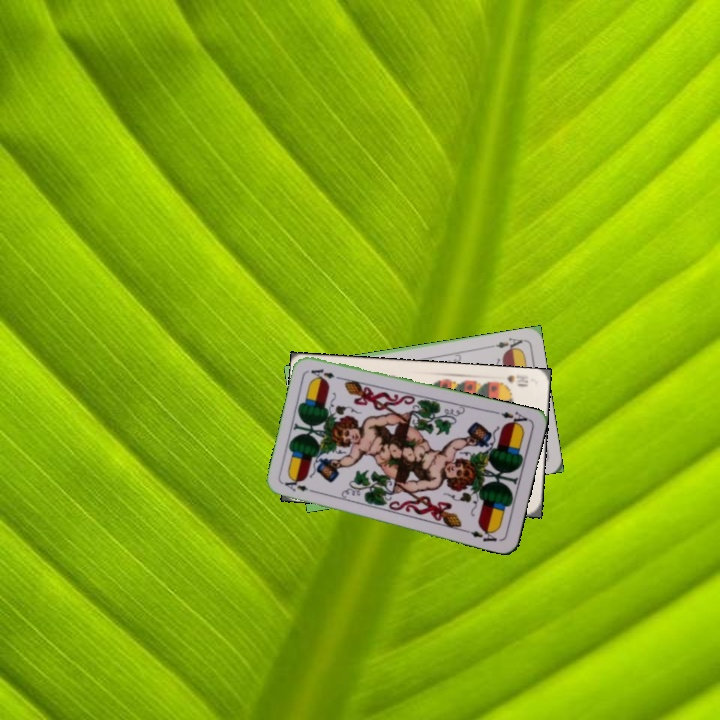EA: (486, 334, 527, 354), (497, 408, 531, 430), (281, 478, 320, 496)
S10: (493, 370, 531, 389)
